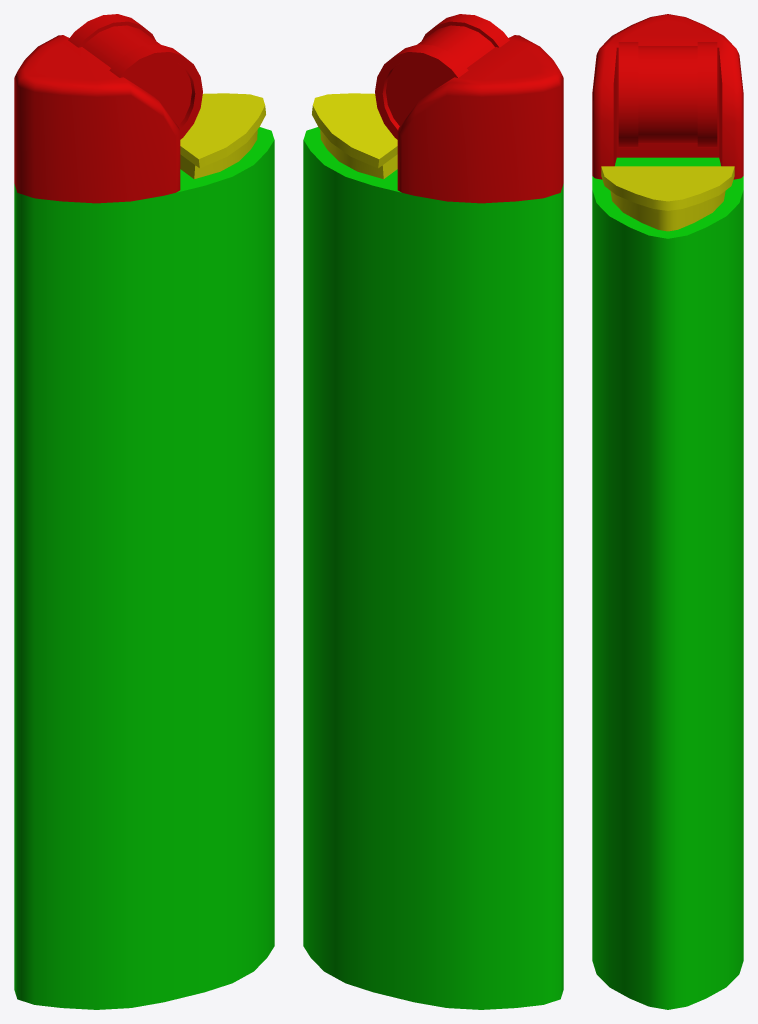
The model's file is Lighter.fbx.
3 views of the same model, side by side, from view 1: azimuth 30°, elevation 25°; view 2: azimuth 150°, elevation 25°; view 3: azimuth 270°, elevation 25° (orthographic). The views are drawn at different scales.
Visible parts, largest first — view 1: Lighter; view 2: Lighter; view 3: Lighter.
Boxes of the visible parts, box(x1,y1,x2,y2) form: Lighter: box(14, 14, 274, 1009); Lighter: box(303, 14, 563, 1009); Lighter: box(592, 14, 743, 1009).
Size of the model in its own units: 0.9261 by 3.26 by 0.5.
